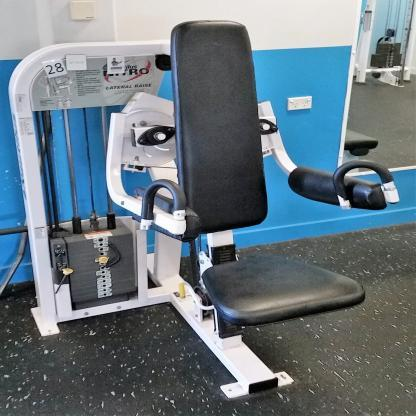lateral raises machine: (6, 20, 398, 402)
